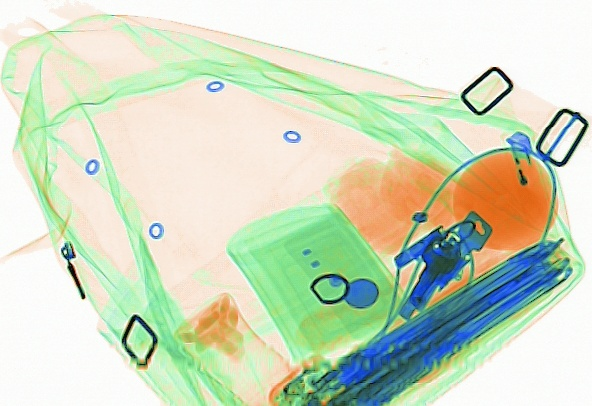lighter: (503, 130, 551, 225)
